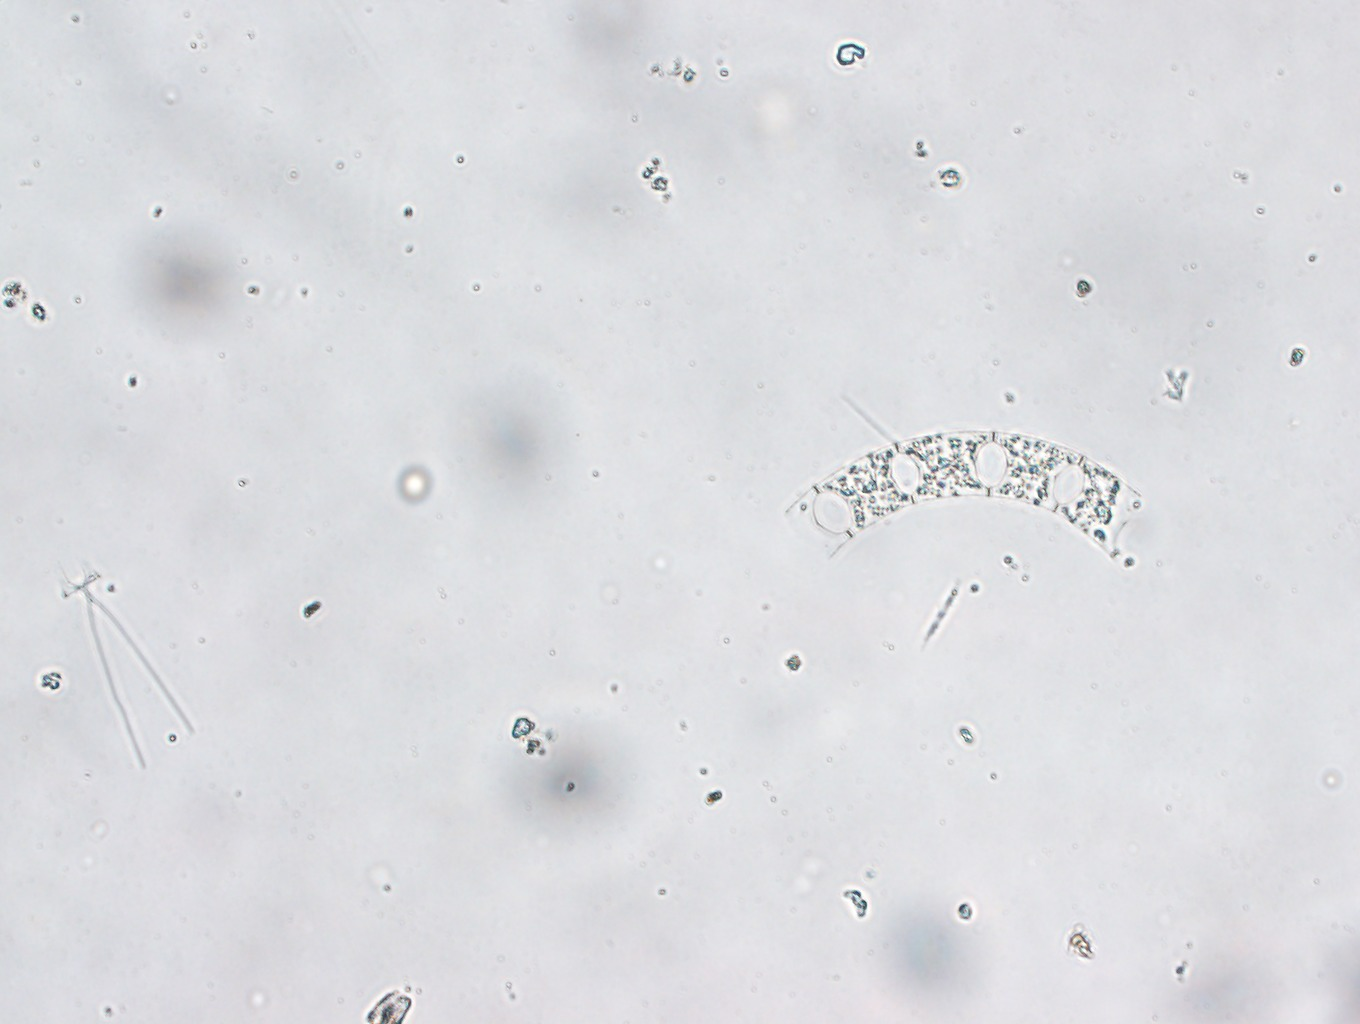eucampia: (785, 429, 1145, 561)
